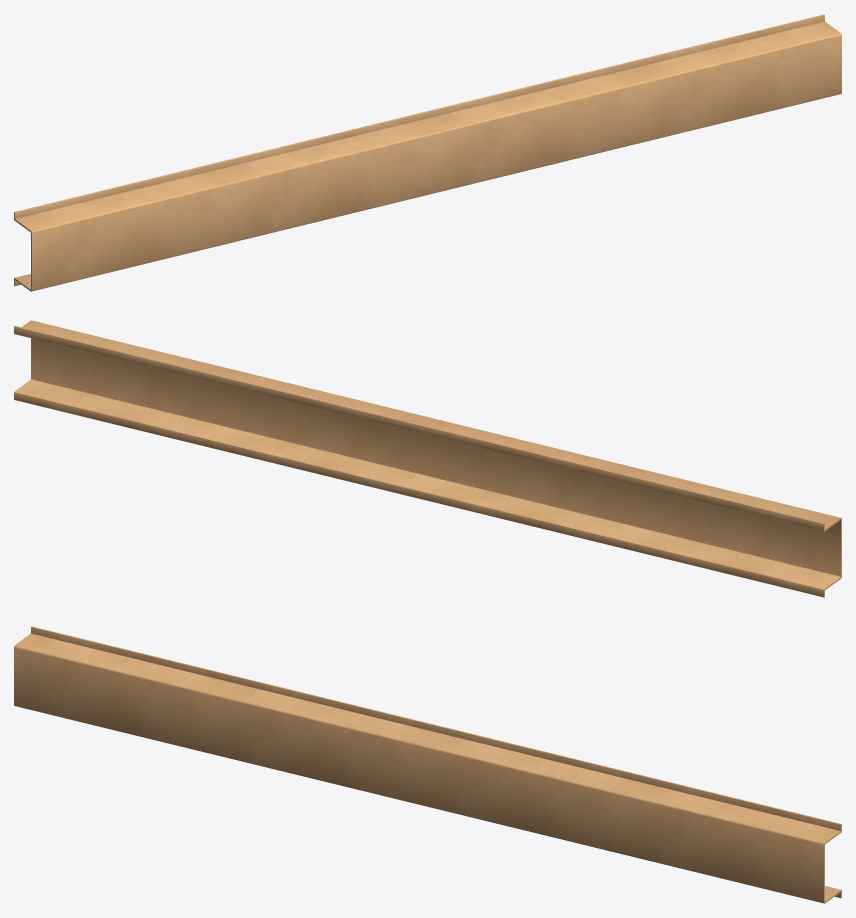
Rendered from DIN.fbx.
3 views of the same model, one above another, from view 1: azimuth 30°, elevation 25°; view 2: azimuth 150°, elevation 25°; view 3: azimuth 330°, elevation 25° (orthographic).
Visible parts, largest first — view 1: DIN; view 2: DIN; view 3: DIN.
Part boxes in pixels (x1,y1,x2,y2): DIN: (14, 14, 841, 291); DIN: (14, 320, 841, 597); DIN: (14, 626, 841, 903).
Bounding box in the file's own units: 40 × 3.51 × 1.53.
